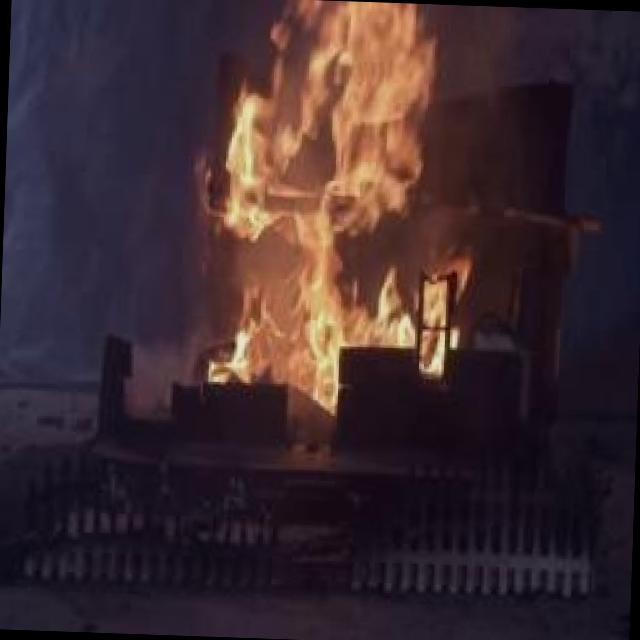fire: (148, 0, 503, 434)
